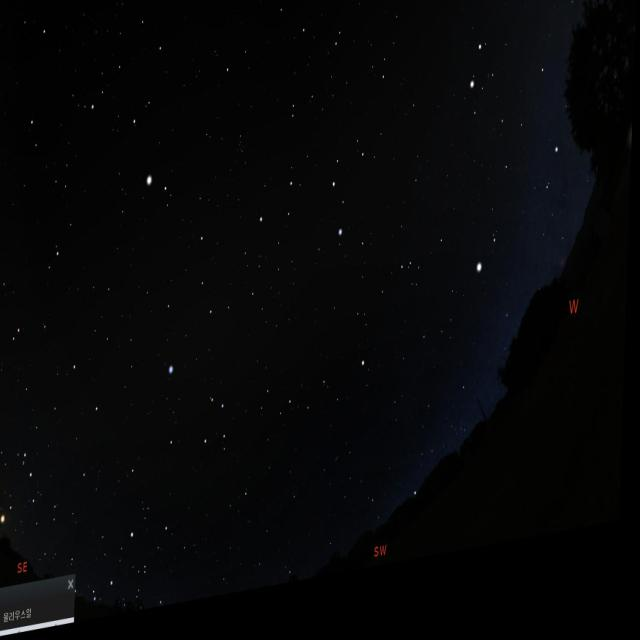bootes: (109, 16, 175, 218)
canis_minor: (468, 244, 505, 308)
gemini: (462, 20, 582, 199)
leo: (246, 136, 381, 296)
scorpius: (0, 438, 42, 588)
